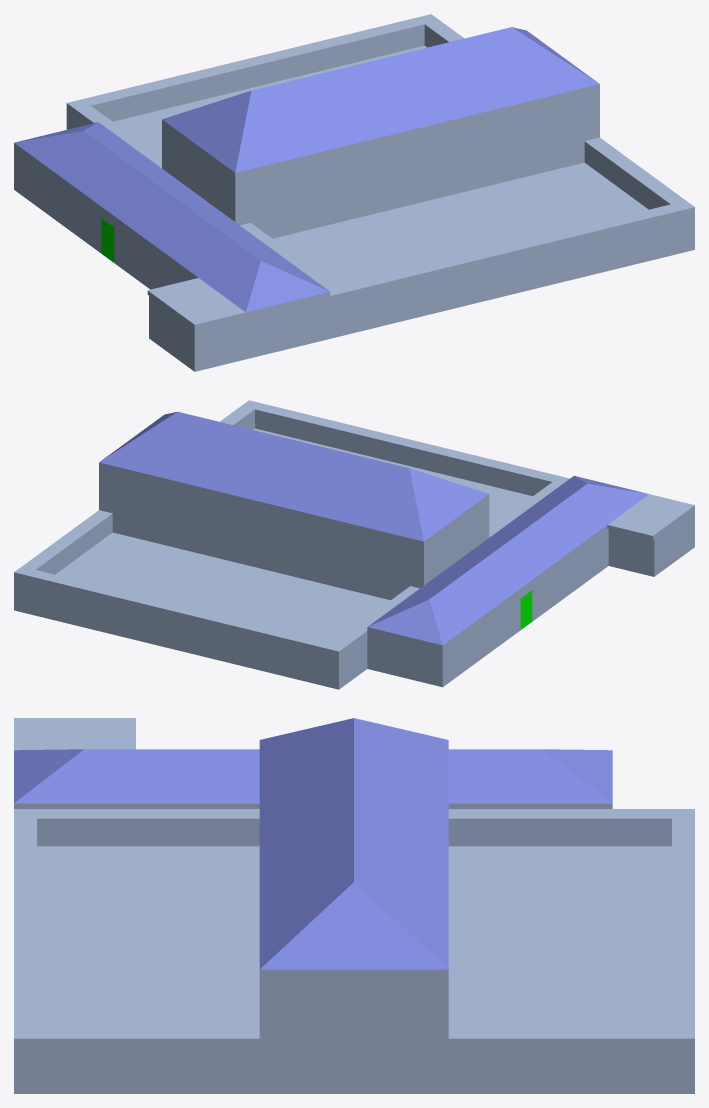
File: A_Filter.glb
3 views of the same model, one above another, from view 1: azimuth 30°, elevation 25°; view 2: azimuth 150°, elevation 25°; view 3: azimuth 270°, elevation 25° (orthographic). The views are drawn at different scales.
Visible parts, largest first — view 1: Floor1; view 2: Floor1; view 3: Floor1.
Part boxes in pixels (bbox=[...]): Floor1: bbox=[14, 14, 694, 371]; Floor1: bbox=[14, 400, 694, 689]; Floor1: bbox=[14, 718, 694, 1093].
Bounding box in the file's own units: 48.96 × 13 × 44.71.
